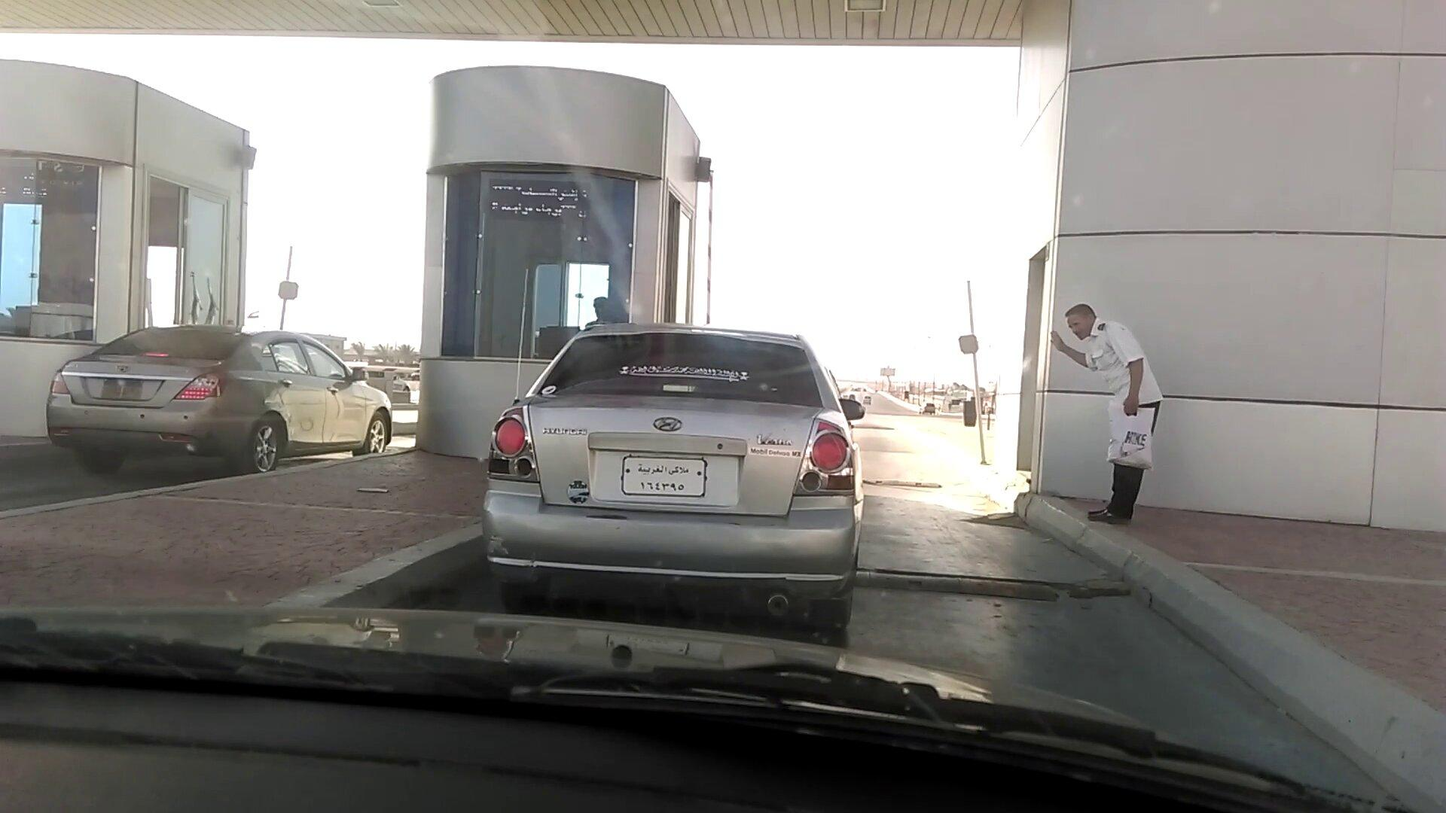Bump: (857, 566, 1069, 610)
